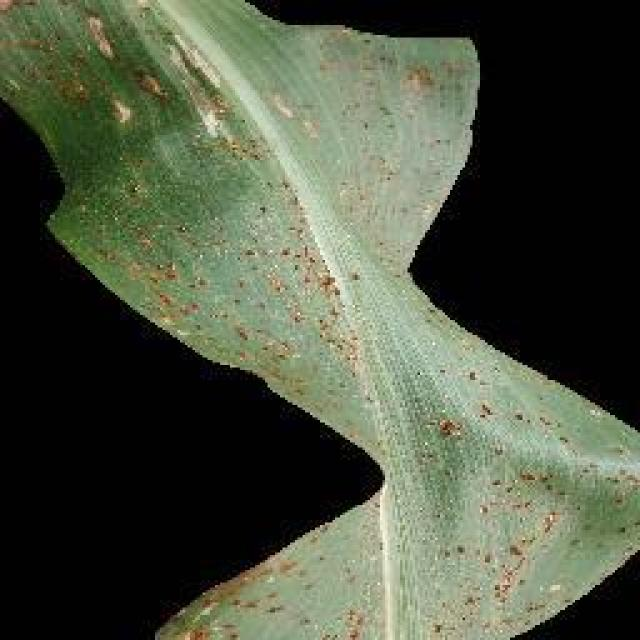Corn Common Rust: (82, 48, 443, 580)
